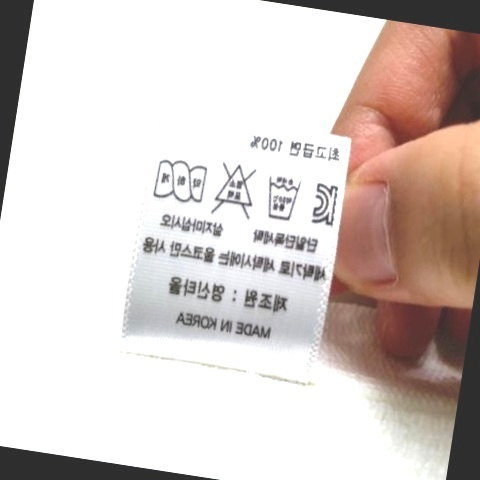hand_wash: (256, 172, 304, 226)
non_chlorine_bleach: (207, 155, 261, 223)
wring: (151, 157, 211, 207)
